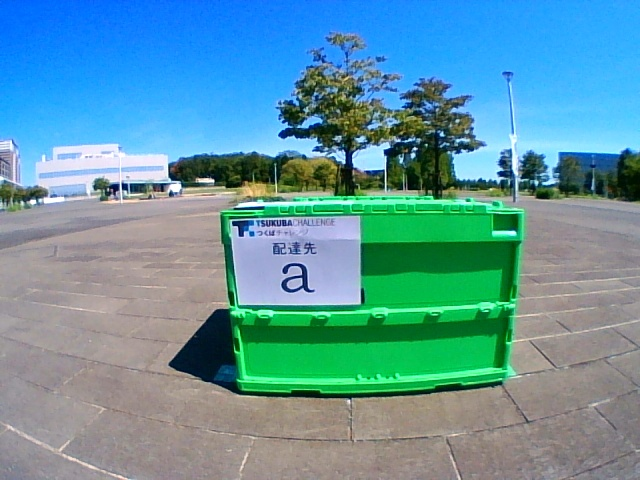green_box: (221, 195, 524, 393)
tag_a: (238, 219, 359, 305)
